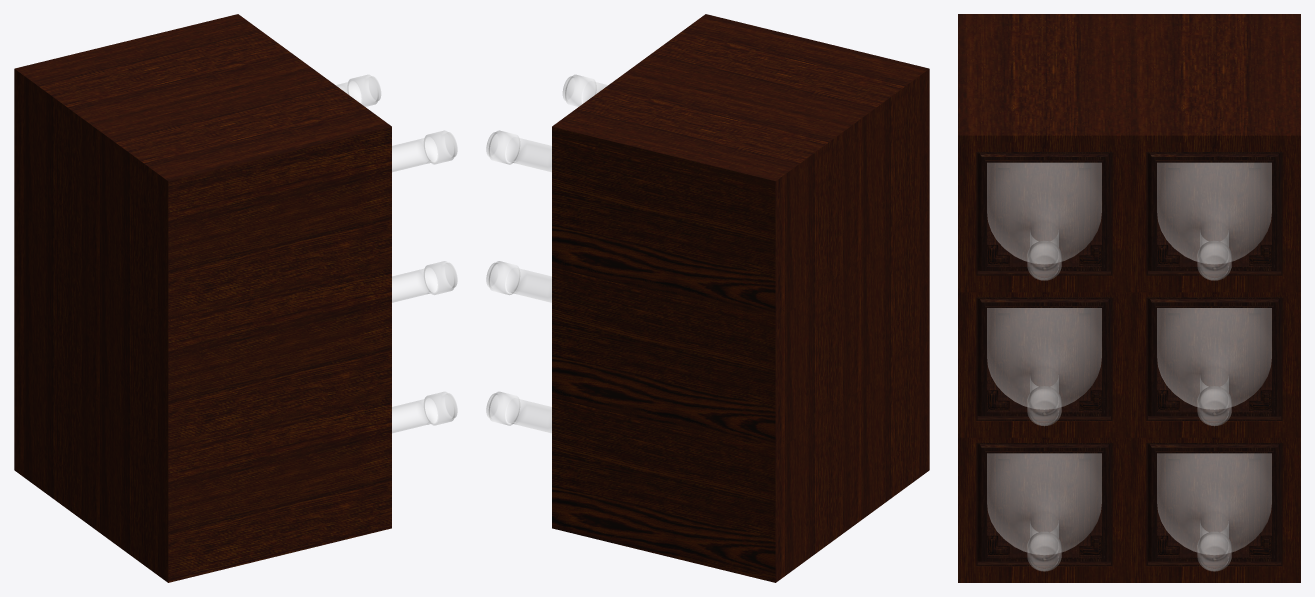
Rendered from wineryModel.gltf.
The picture shows the model from 3 angles, left to right: view 1: azimuth 30°, elevation 25°; view 2: azimuth 150°, elevation 25°; view 3: azimuth 270°, elevation 25°; orthographic projection. The views are drawn at different scales.
Visible parts, largest first — view 1: Plane; view 2: Plane; view 3: Plane.
Boxes of the visible parts, x1,y1,x2,y2 form: Plane: [14, 14, 457, 582]; Plane: [486, 14, 929, 582]; Plane: [958, 14, 1300, 582].
Size of the model in its own units: 0.3592 by 0.4286 by 0.2977.
Materials: 3 (2 with a texture image).
